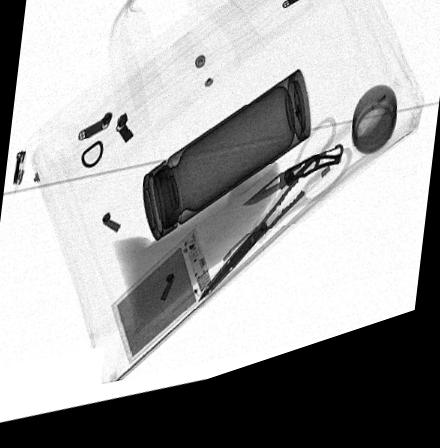Knife: (238, 165, 344, 221)
Powerbank: (109, 238, 213, 374)
Scissors: (196, 137, 352, 316)
